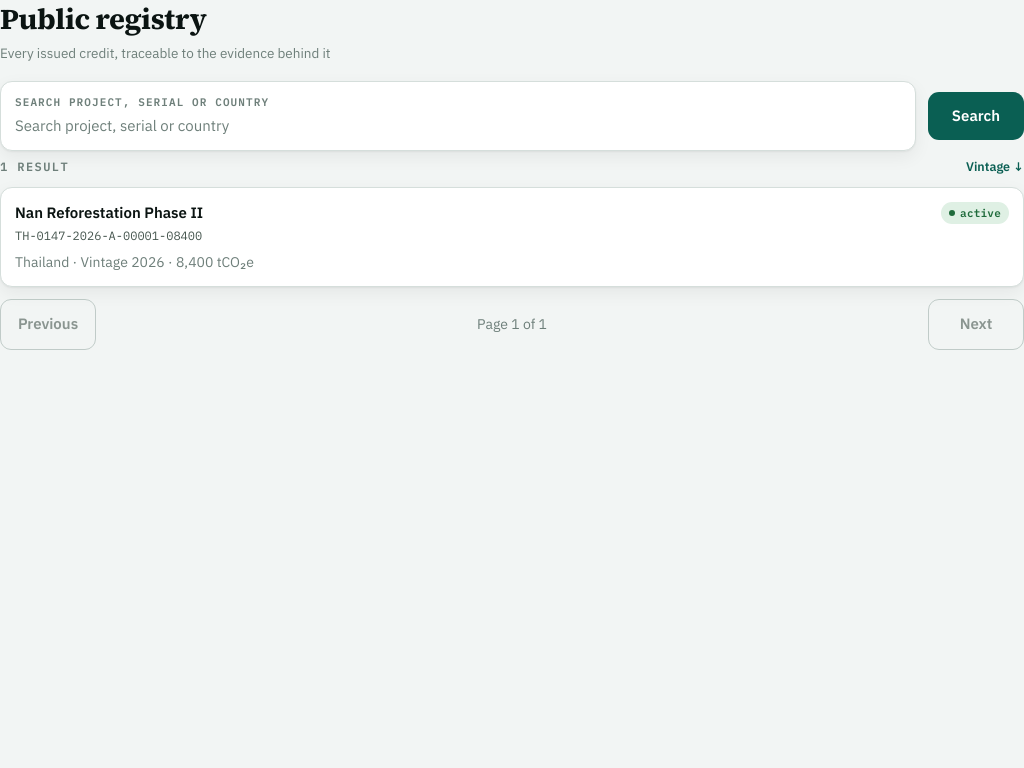
Public registry › shows public results and full traceability with deferred states
This screenshot has width=1024, height=768.
Click the button "Nan Reforestation" at (109, 212), box [1,188,1023,286]
(page scrolled)
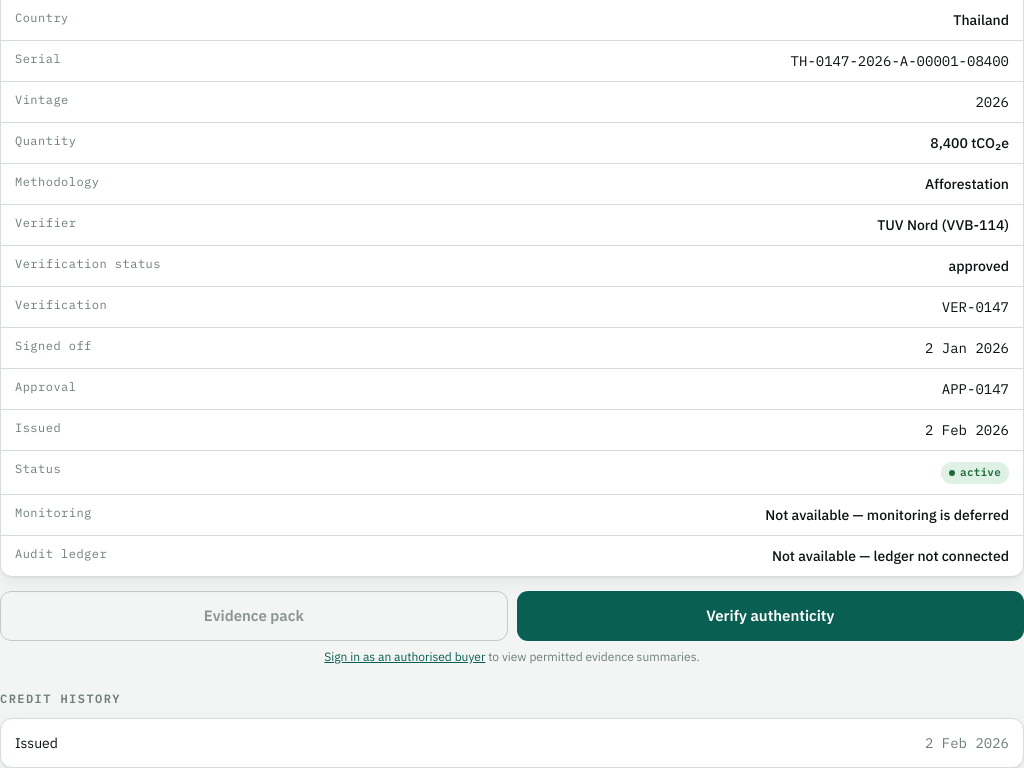
Result: the text "TUV Nord (VVB-114)" is shown at [175,205,1023,246]
Result: the text "Not available — monitoring is deferred" is shown at [175,494,1023,536]
Result: the text "Not available — ledger not connected" is shown at [772,546,1009,564]
